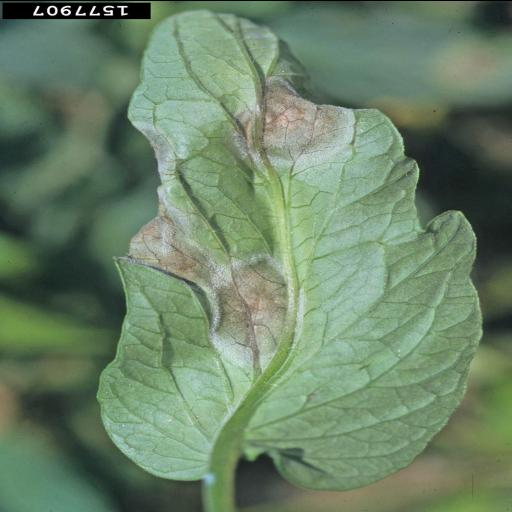disease_tomato: (91, 4, 489, 494)
